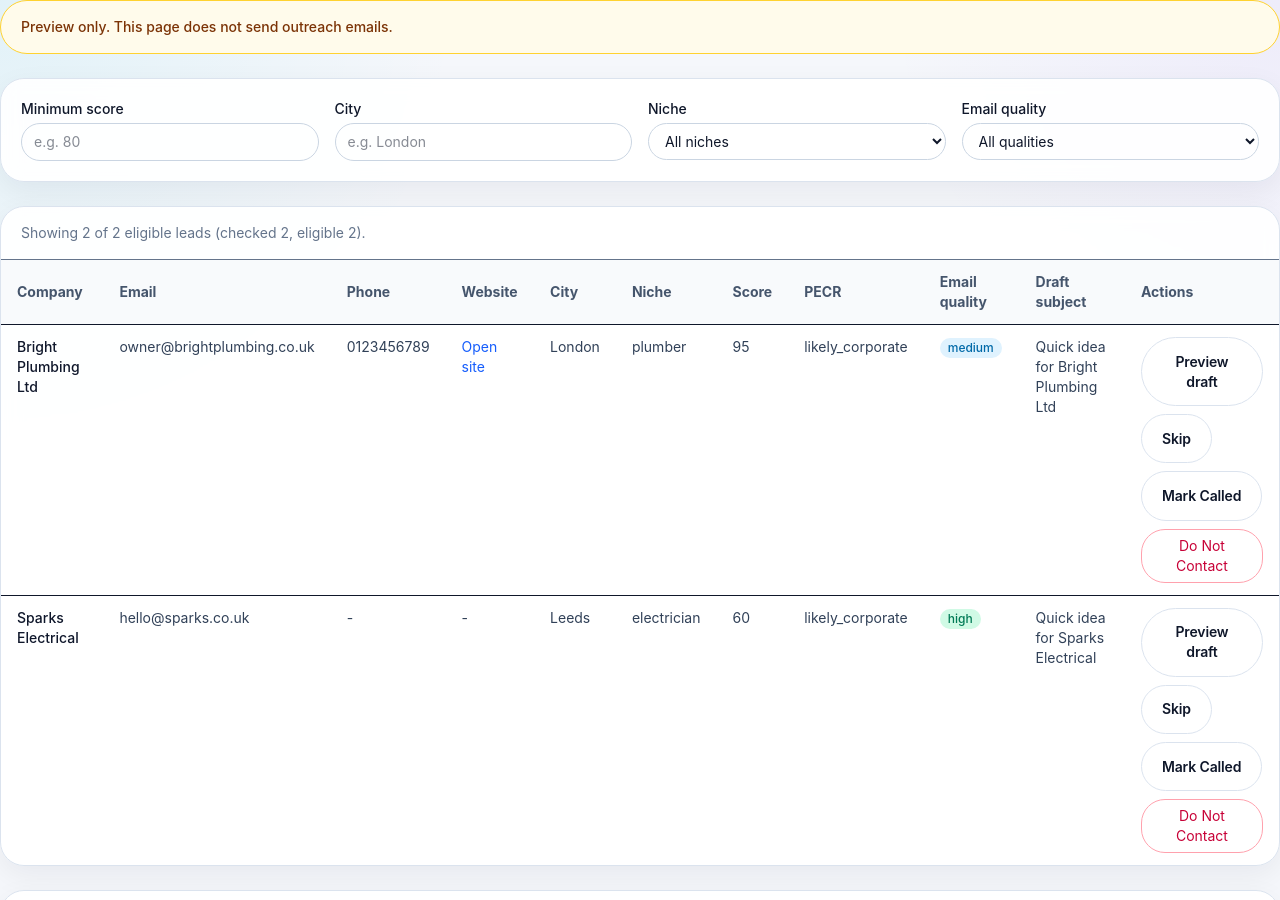
Test: QueueClient › filters by minimum score
The width and height of the screenshot is (1280, 900).
Expected: the text "Bright Plumbing Ltd" is shown, left=1, top=324, right=103, bottom=595
In the number field labelled "Minimum score": point(170, 142) left=21, top=123, right=318, bottom=161, type "80"
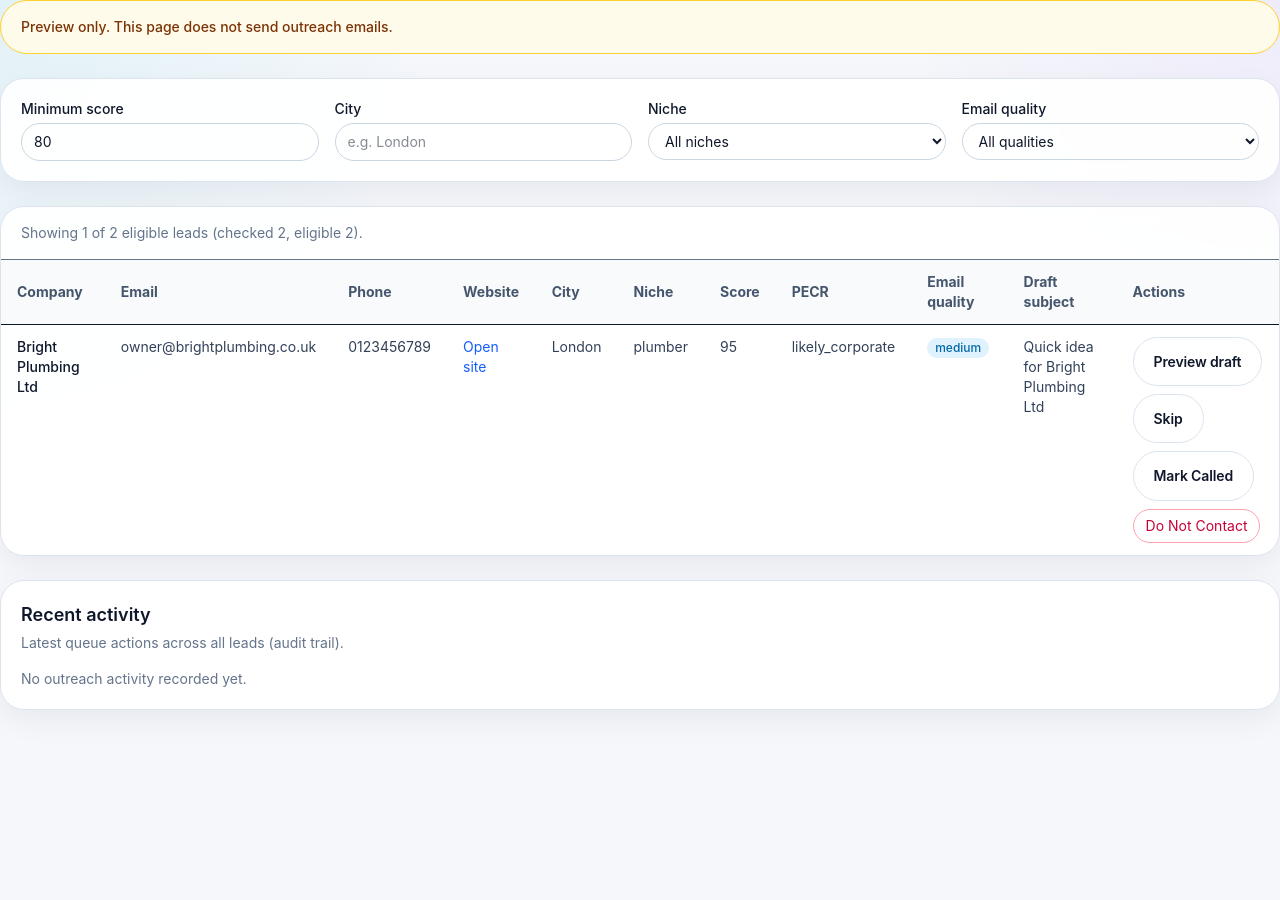
Expected: the text "Bright Plumbing Ltd" is shown, left=1, top=324, right=105, bottom=555
Now the text "Sparks Electrical" is gone
